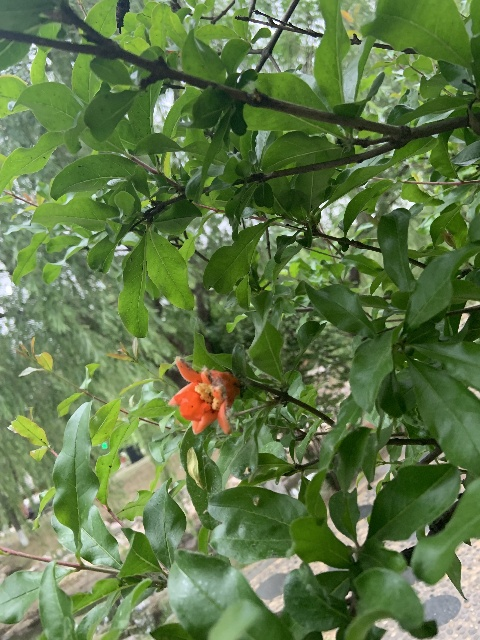flower: (169, 358, 241, 435)
